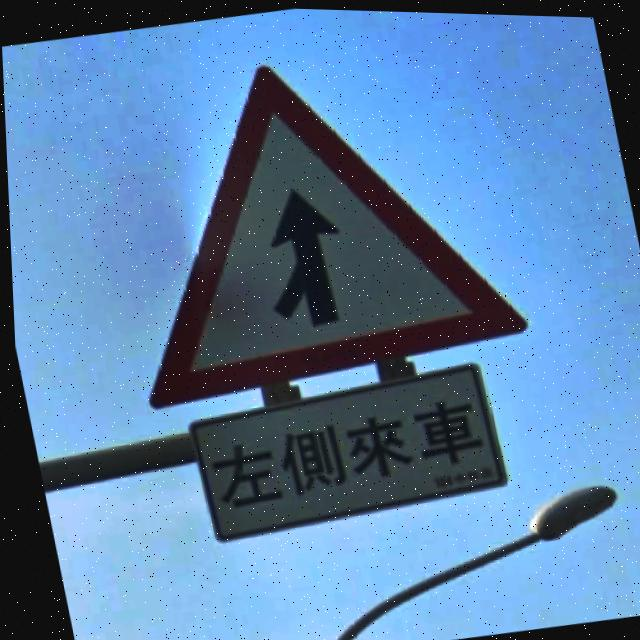leftmerge: (147, 67, 523, 408)
